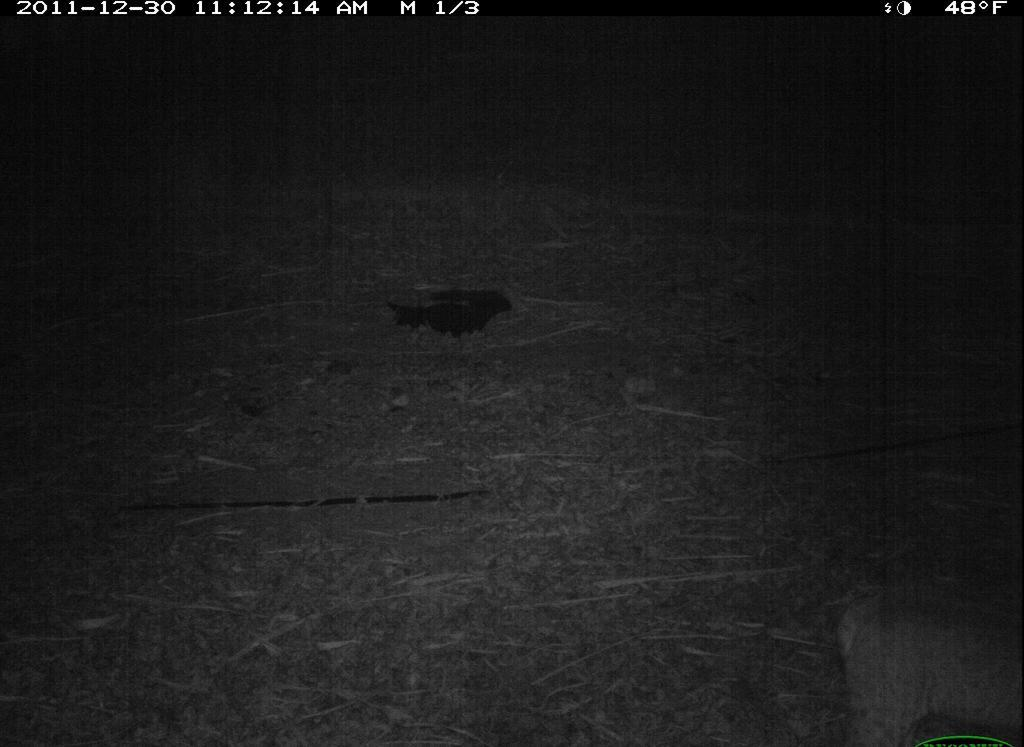bobcat: (816, 577, 1021, 740)
